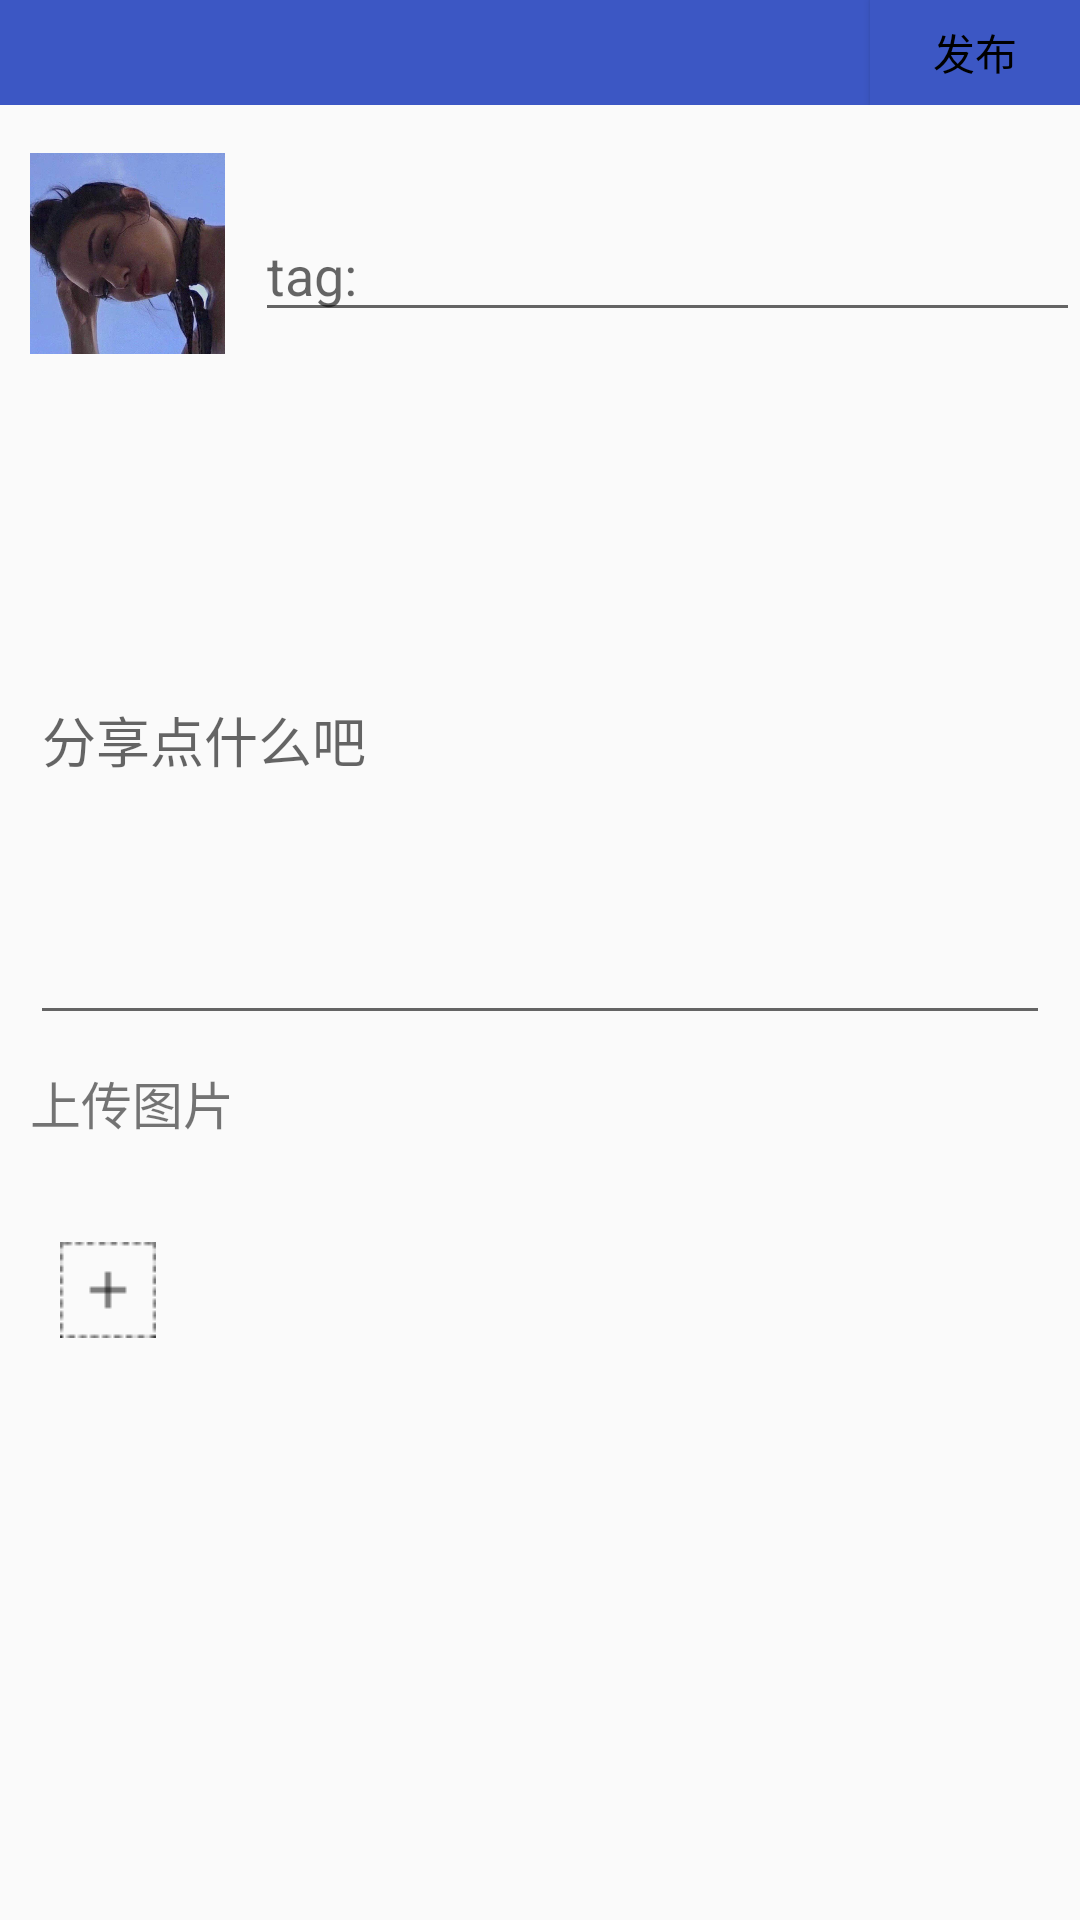

Screen size 1080 × 1920. Icon name, then its box in pixels as detection(x1, y1, x2, y2):
upload: detection(60, 1242, 156, 1338)
